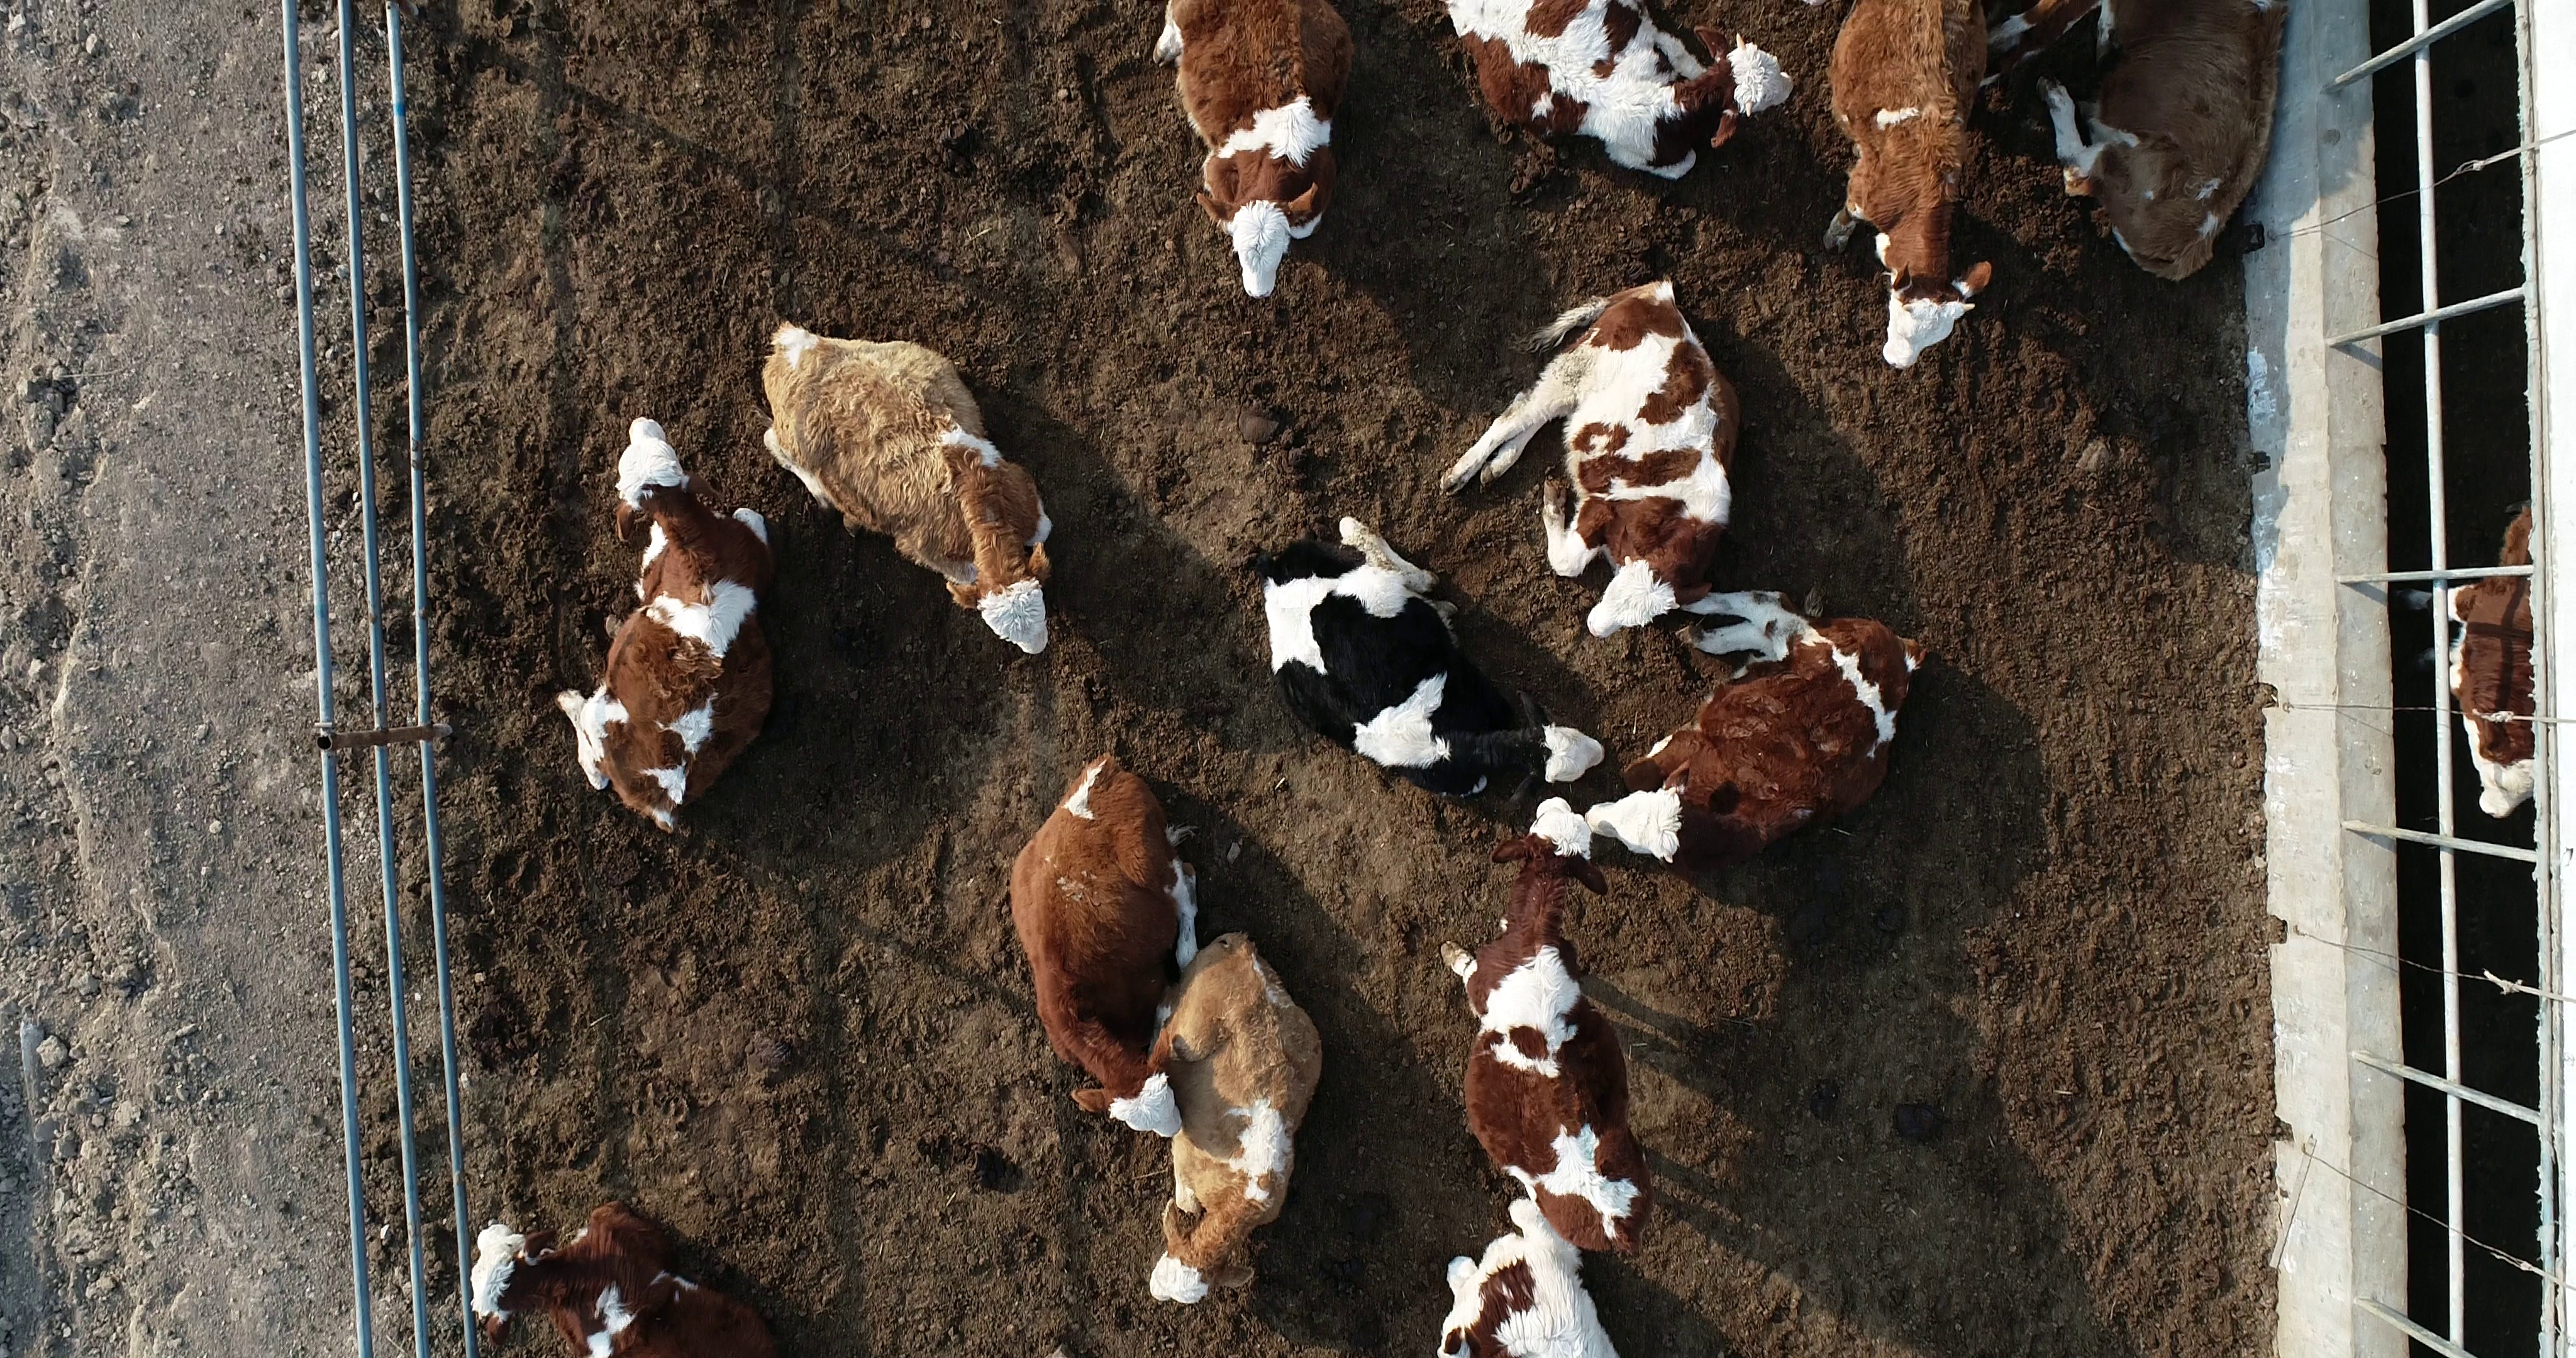cattle: (753, 317, 1060, 665), (1433, 794, 1656, 1259), (1257, 513, 1610, 804), (552, 412, 787, 840), (1005, 753, 1205, 1142)
